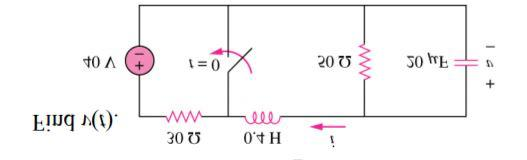Capacitor: (445, 46, 482, 83)
